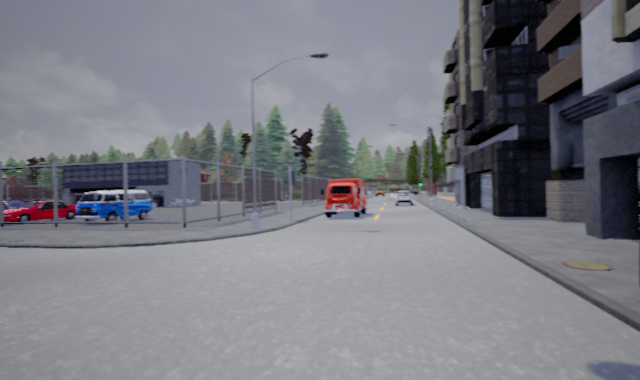vehicle: (75, 189, 153, 223), (321, 177, 368, 220), (1, 199, 75, 223), (395, 189, 415, 207), (375, 188, 386, 197)
